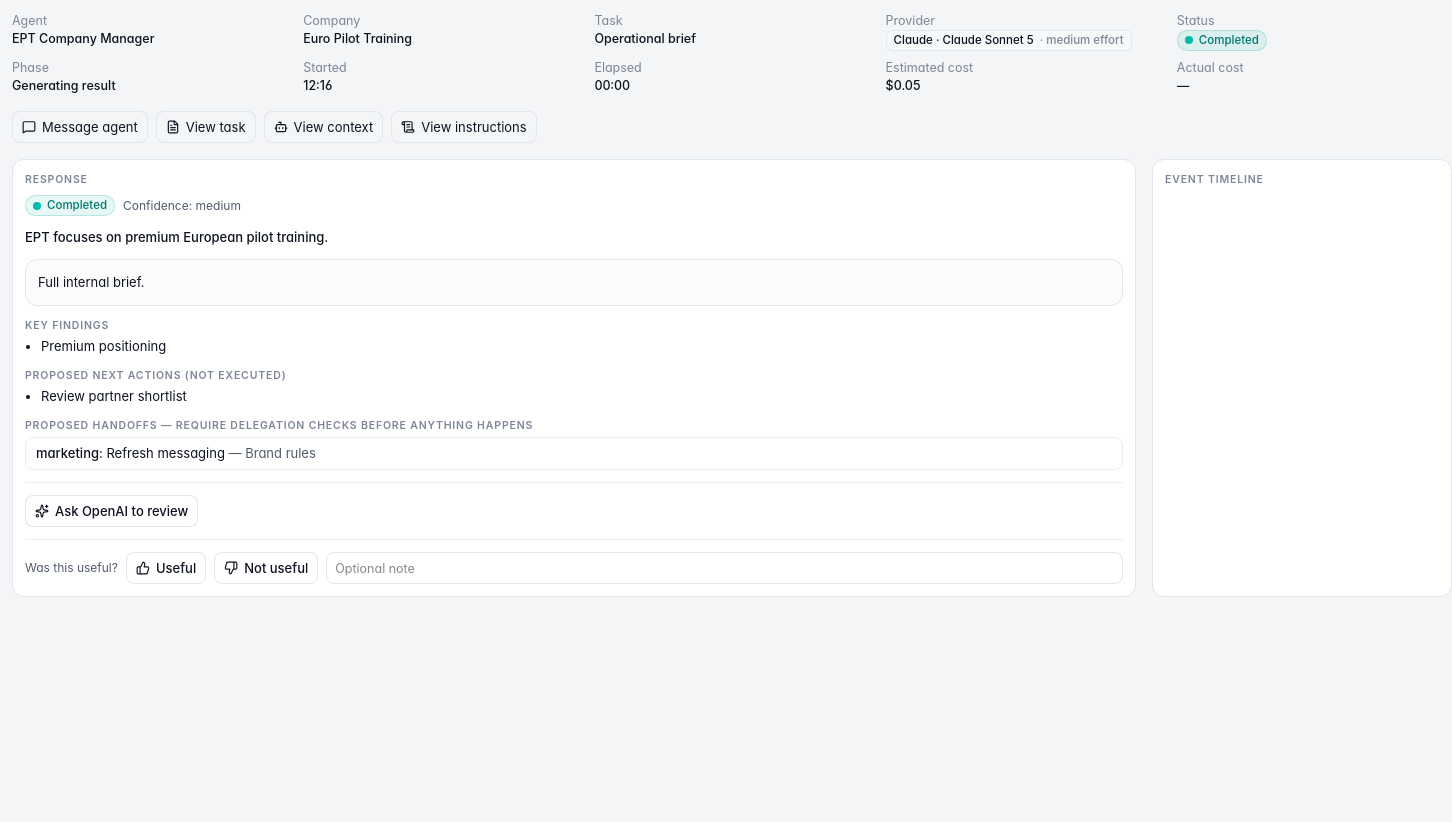
Test: second-opinion review UI › shows an Ask OpenAI to review button on a completed Claude run when permitted, and requests it
What coordinates should you click on to do the following:
click the button "Ask OpenAI to review"
I would click on:
 (112, 511)
Its box is [25,495,198,527].
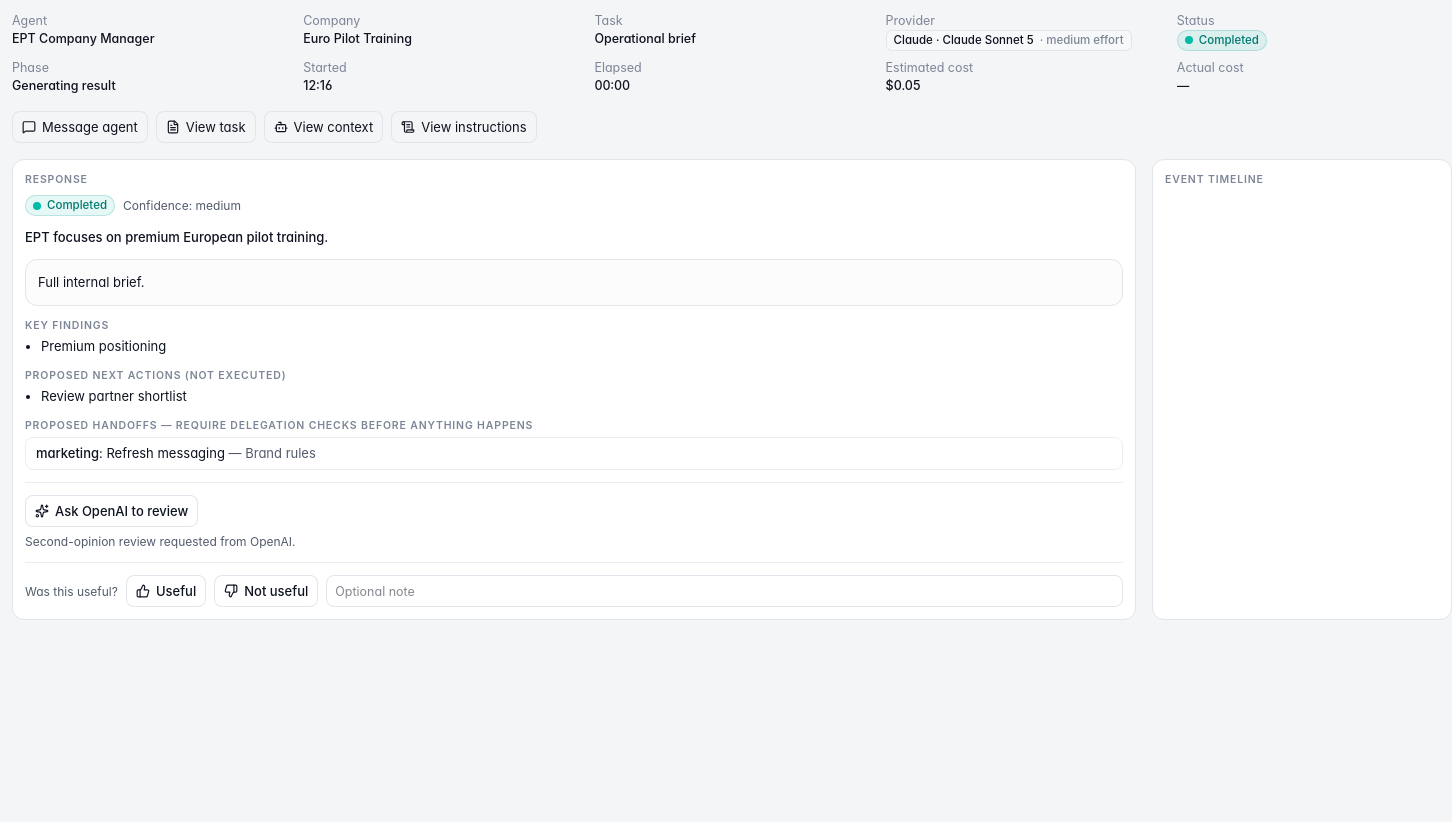
Check: the text "Second-opinion review requested from OpenAI." is shown, box [25,534,296,549]
